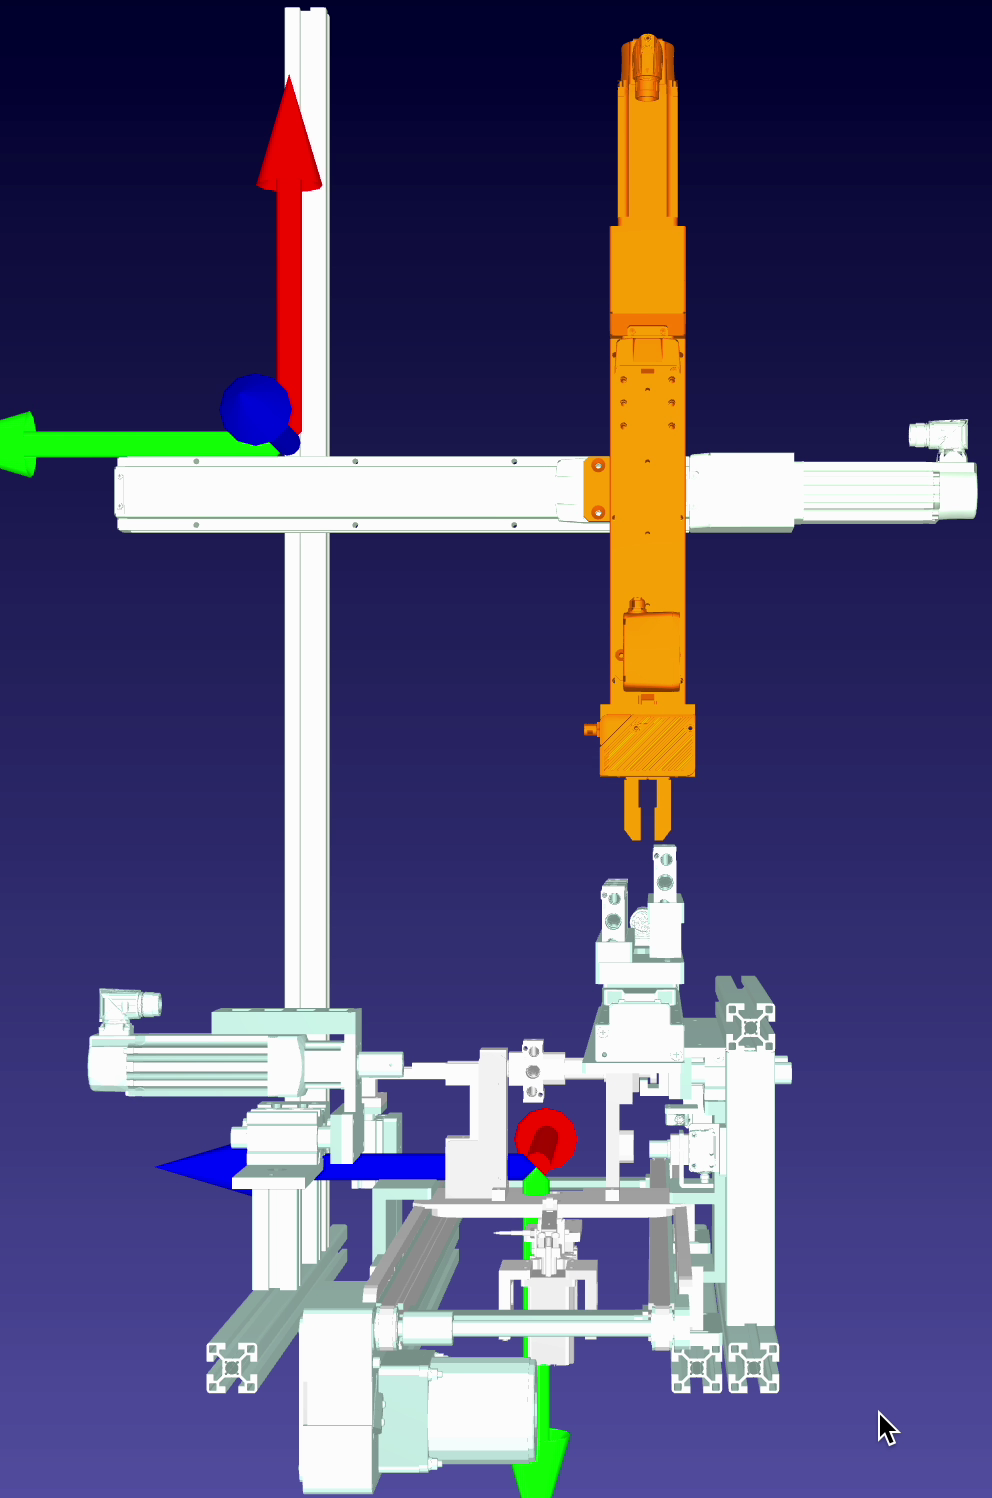Gripper: (591, 703, 700, 843)
